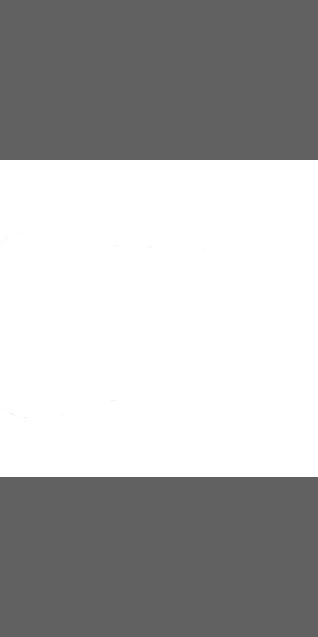bottle: (0, 223, 318, 426)
